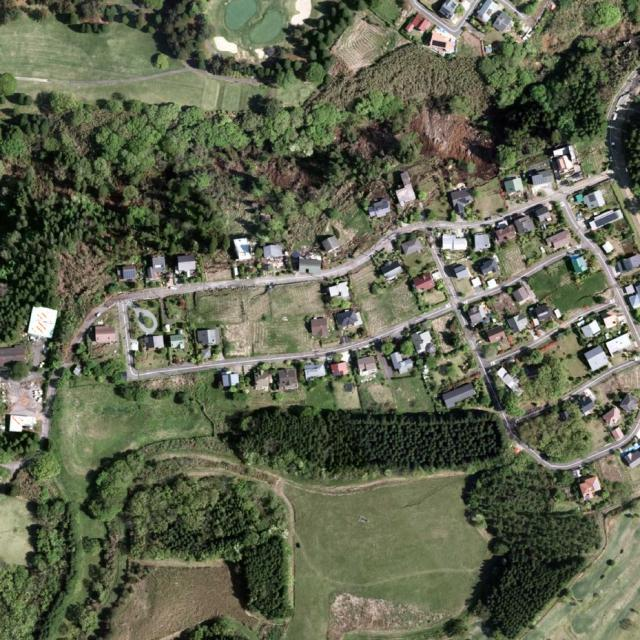landslide: (412, 108, 481, 160)
